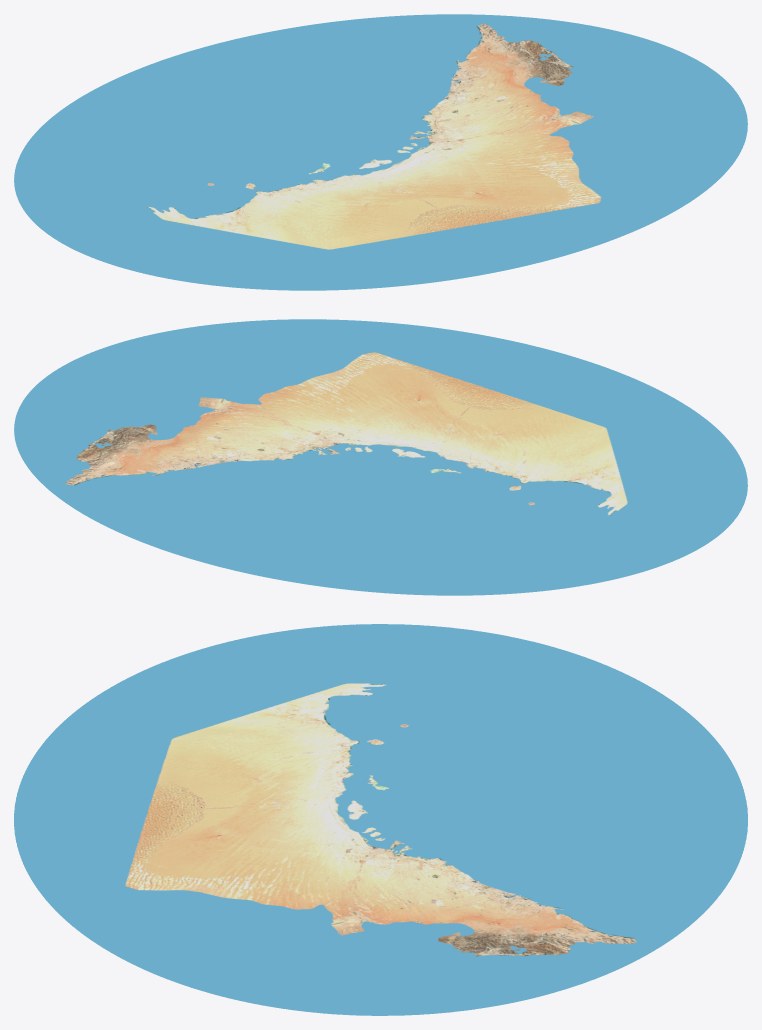
File: ARE-previa-terrain.glb
The picture shows the model from 3 angles, top to bottom: view 1: azimuth 30°, elevation 25°; view 2: azimuth 150°, elevation 25°; view 3: azimuth 270°, elevation 25°; orthographic projection. The views are drawn at different scales.
Parts seen in each view (by area): view 1: Emirados Árabes Unidos; view 2: Emirados Árabes Unidos; view 3: Emirados Árabes Unidos.
Part boxes in pixels (left/top/right/bottom): Emirados Árabes Unidos: left=14, top=14, right=747, bottom=290; Emirados Árabes Unidos: left=14, top=319, right=747, bottom=595; Emirados Árabes Unidos: left=14, top=624, right=747, bottom=1015.
Size of the model in its own units: 2.52 by 0.0193 by 1.99.
Materials: 1 (1 with a texture image).
